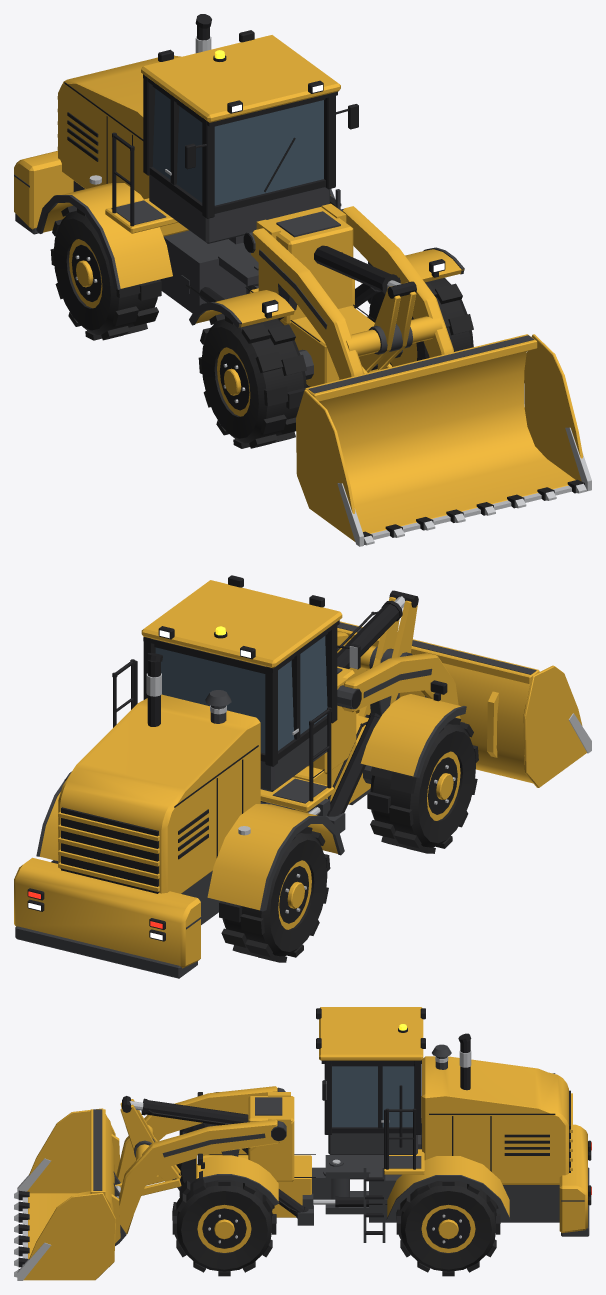
Rendered from loader.glb.
3 renders of one model, top to bottom at view 1: azimuth 30°, elevation 25°; view 2: azimuth 150°, elevation 25°; view 3: azimuth 270°, elevation 25°, orthographic. The views are drawn at different scales.
Parts seen in each view (by area): view 1: Bucket_LOD0, Cab_LOD0, RearFrame_LOD0, FrontFrame_LOD0, WheelFrontRight_LOD0, Boom_LOD0, WheelRearRight_LOD0, WheelFrontLeft_LOD0, Bellcrank_LOD0, TiltCylinder_LOD0; view 2: RearFrame_LOD0, Cab_LOD0, Bucket_LOD0, WheelFrontRight_LOD0, FrontFrame_LOD0, WheelRearRight_LOD0, Boom_LOD0, Bellcrank_LOD0, LiftCylinderRight_LOD0, TiltCylinder_LOD0; view 3: RearFrame_LOD0, Bucket_LOD0, Cab_LOD0, WheelFrontLeft_LOD0, Boom_LOD0, WheelRearLeft_LOD0, FrontFrame_LOD0, TiltCylinder_LOD0, Bellcrank_LOD0, WheelFrontRight_LOD0, BucketLink_LOD0, LiftCylinderLeft_LOD0.
Part boxes in pixels (left/top/right/bottom): Bucket_LOD0: left=296, top=334, right=591, bottom=546; Cab_LOD0: left=141, top=30, right=358, bottom=243; RearFrame_LOD0: left=14, top=14, right=341, bottom=313; FrontFrame_LOD0: left=189, top=203, right=464, bottom=387; WheelFrontRight_LOD0: left=198, top=313, right=306, bottom=448; Boom_LOD0: left=243, top=206, right=453, bottom=379; WheelRearRight_LOD0: left=50, top=205, right=161, bottom=340; WheelFrontLeft_LOD0: left=367, top=278, right=473, bottom=366; Bellcrank_LOD0: left=359, top=281, right=416, bottom=372; TiltCylinder_LOD0: left=314, top=245, right=400, bottom=294; RearFrame_LOD0: left=14, top=653, right=344, bottom=978; Cab_LOD0: left=141, top=575, right=360, bottom=791; Bucket_LOD0: left=337, top=621, right=591, bottom=787; WheelFrontRight_LOD0: left=367, top=717, right=478, bottom=853; FrontFrame_LOD0: left=273, top=666, right=466, bottom=833; WheelRearRight_LOD0: left=219, top=826, right=330, bottom=962; Boom_LOD0: left=337, top=631, right=460, bottom=718; Bellcrank_LOD0: left=358, top=590, right=418, bottom=717; LiftCylinderRight_LOD0: left=327, top=713, right=381, bottom=816; TiltCylinder_LOD0: left=337, top=600, right=402, bottom=668; RearFrame_LOD0: left=325, top=1033, right=591, bottom=1242; Bucket_LOD0: left=14, top=1108, right=126, bottom=1280; Cab_LOD0: left=315, top=1007, right=426, bottom=1154; WheelFrontLeft_LOD0: left=172, top=1171, right=276, bottom=1276; Boom_LOD0: left=116, top=1086, right=285, bottom=1234; WheelRearLeft_LOD0: left=396, top=1181, right=500, bottom=1276; FrontFrame_LOD0: left=196, top=1087, right=349, bottom=1225; TiltCylinder_LOD0: left=141, top=1098, right=248, bottom=1125; Bellcrank_LOD0: left=120, top=1096, right=180, bottom=1181; WheelFrontRight_LOD0: left=176, top=1123, right=248, bottom=1190; BucketLink_LOD0: left=115, top=1173, right=181, bottom=1195; LiftCylinderLeft_LOD0: left=278, top=1189, right=308, bottom=1218.
Bounding box in the file's own units: 2.99 × 3.47 × 8.51.
